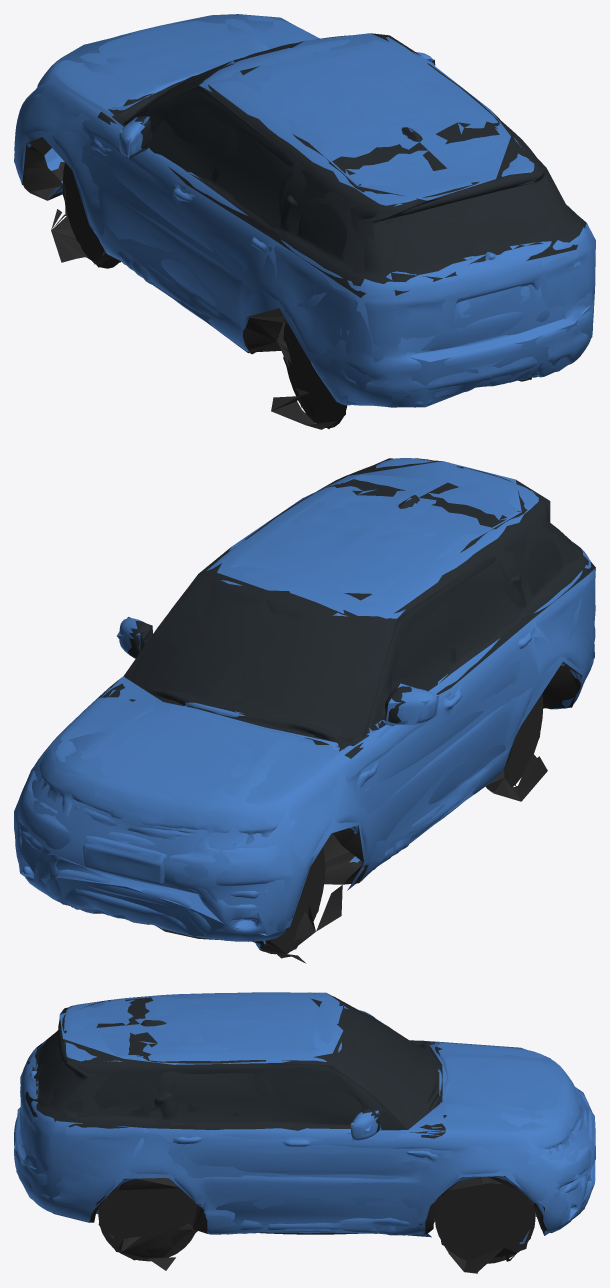
The model's file is land-rover-range-rover-sport.glb.
3 renders of one model, top to bottom at view 1: azimuth 30°, elevation 25°; view 2: azimuth 150°, elevation 25°; view 3: azimuth 270°, elevation 25°, orthographic. The views are drawn at different scales.
Visible parts, largest first — view 1: body, far; view 2: body, far; view 3: body, far.
Boxes of the visible parts, x1,y1,x2,y2 form: body: (14,15,595,429); far: (14,14,595,428); body: (15,458,595,963); far: (14,458,595,954); body: (14,992,595,1273); far: (14,992,595,1264).
Size of the model in its own units: 2.3 by 1.9 by 4.85.
